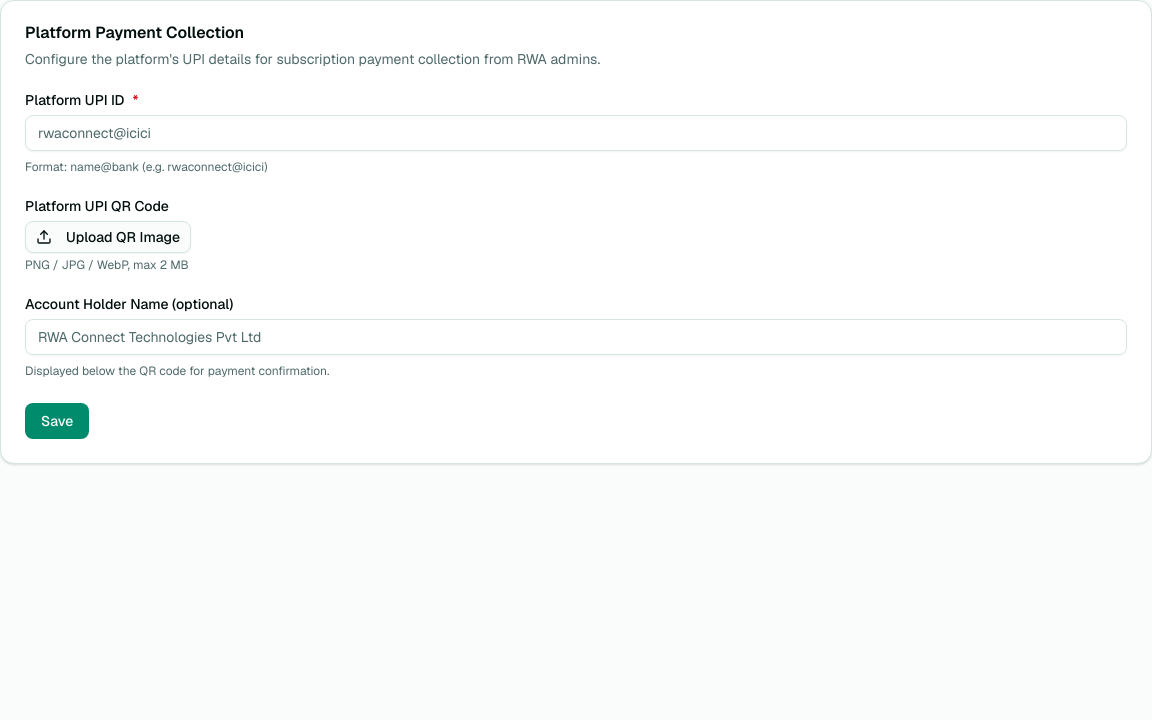
Test: PlatformPaymentSetupForm › shows validation error for missing UPI ID on submit
Click the button "Save".
click(57, 421)  # box x1=25 y1=403 x2=89 y2=439
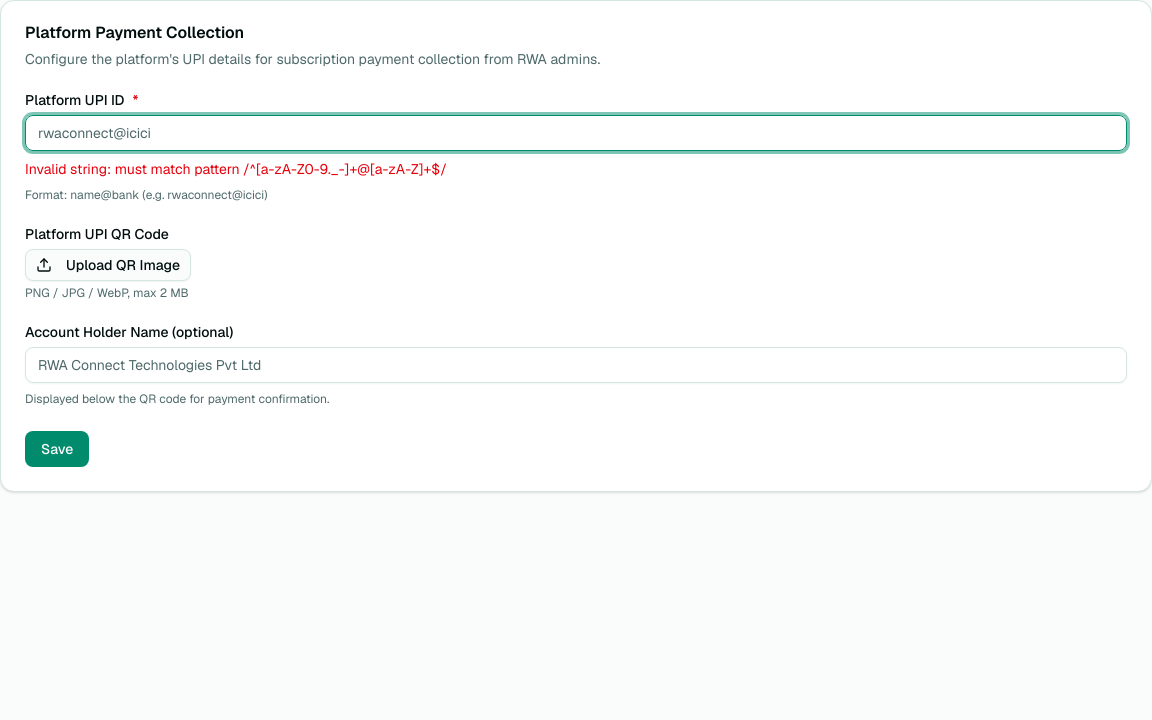
Check: the text "Invalid" is shown, box x1=25 y1=160 x2=447 y2=178
